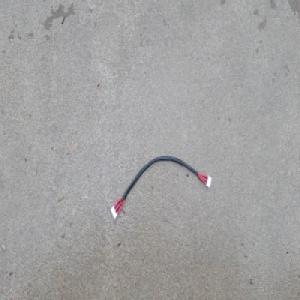Wire: (109, 154, 212, 221)
